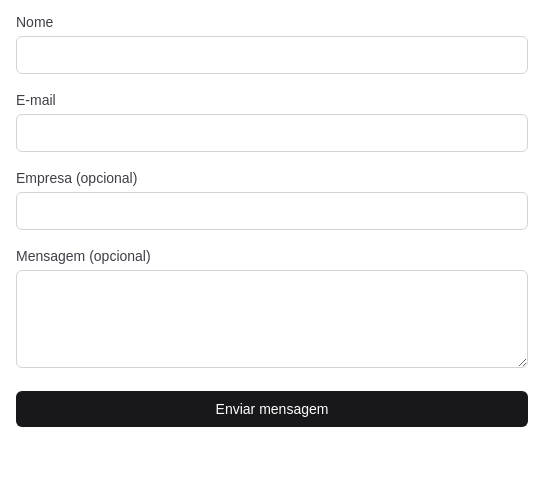
Test: ContactForm › mostra mensagem de erro quando a API falha
Type "Fulano de Tal" into the field labelled "Nome" at coordinates (272, 55), box [16, 36, 528, 74]
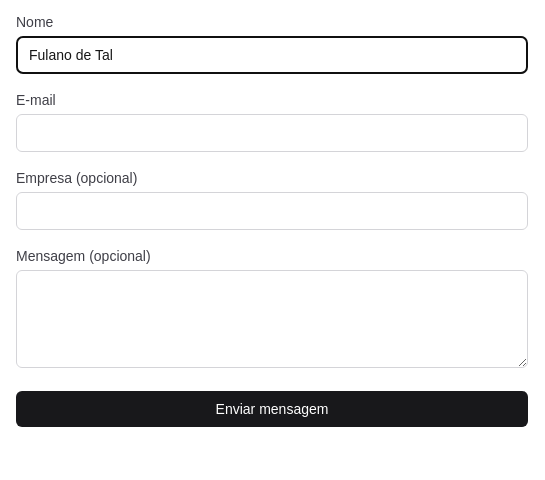
Type "fulano@example.com" into the field labelled "E-mail" at coordinates (272, 133), box [16, 114, 528, 152]
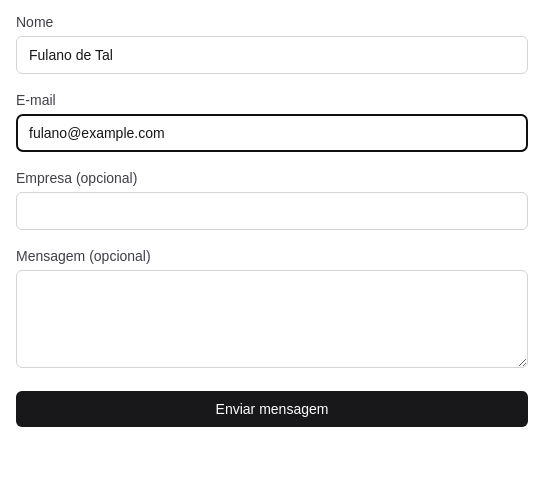
Click the button "Enviar mensagem" at coordinates (272, 409), box [16, 391, 528, 427]
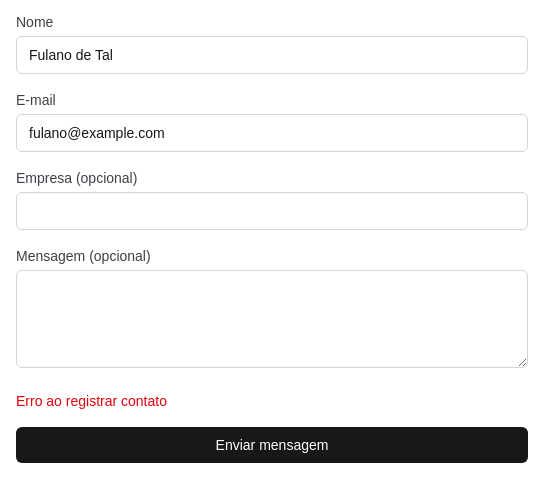
Result: the text "Erro ao registrar contato" is shown at [16, 393, 167, 409]
